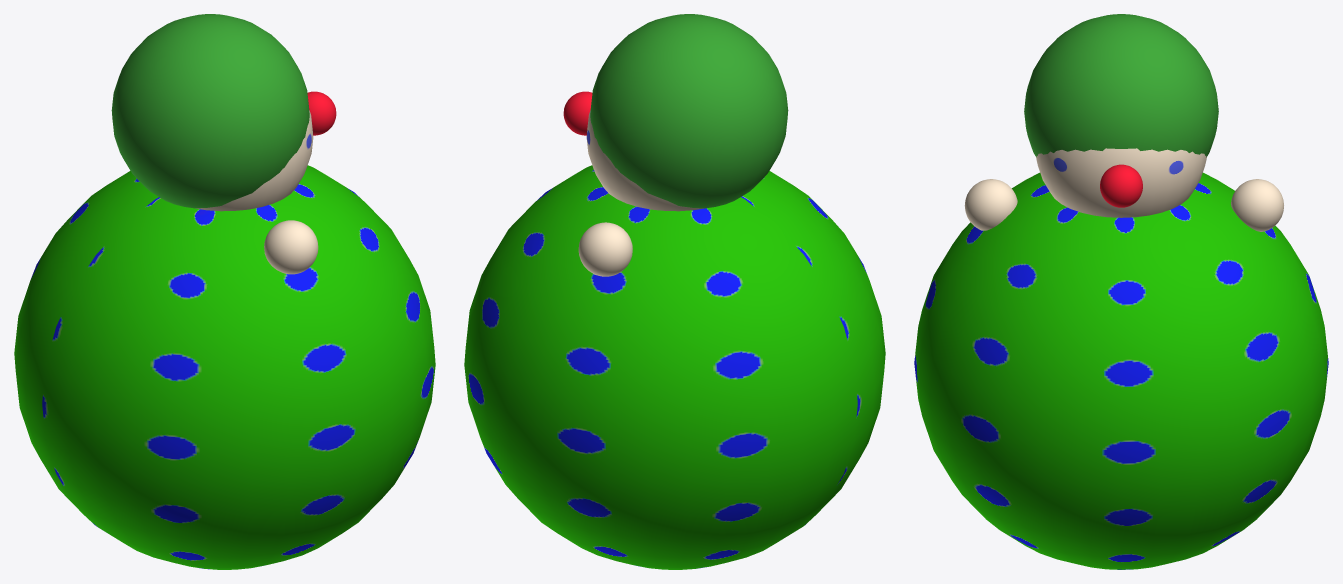
Rendered from clown_greenbluedot.gltf.
3 renders of one model, left to right at view 1: azimuth 30°, elevation 25°; view 2: azimuth 150°, elevation 25°; view 3: azimuth 270°, elevation 25°, orthographic.
Parts seen in each view (by area): view 1: Clown; view 2: Clown; view 3: Clown.
Part boxes in pixels (x1,y1,x2,y2): Clown: (14,14,435,569); Clown: (464,14,885,569); Clown: (914,14,1328,569).
Bounding box in the file's own units: 2 × 2.77 × 2.
Materials: 1 (1 with a texture image).
